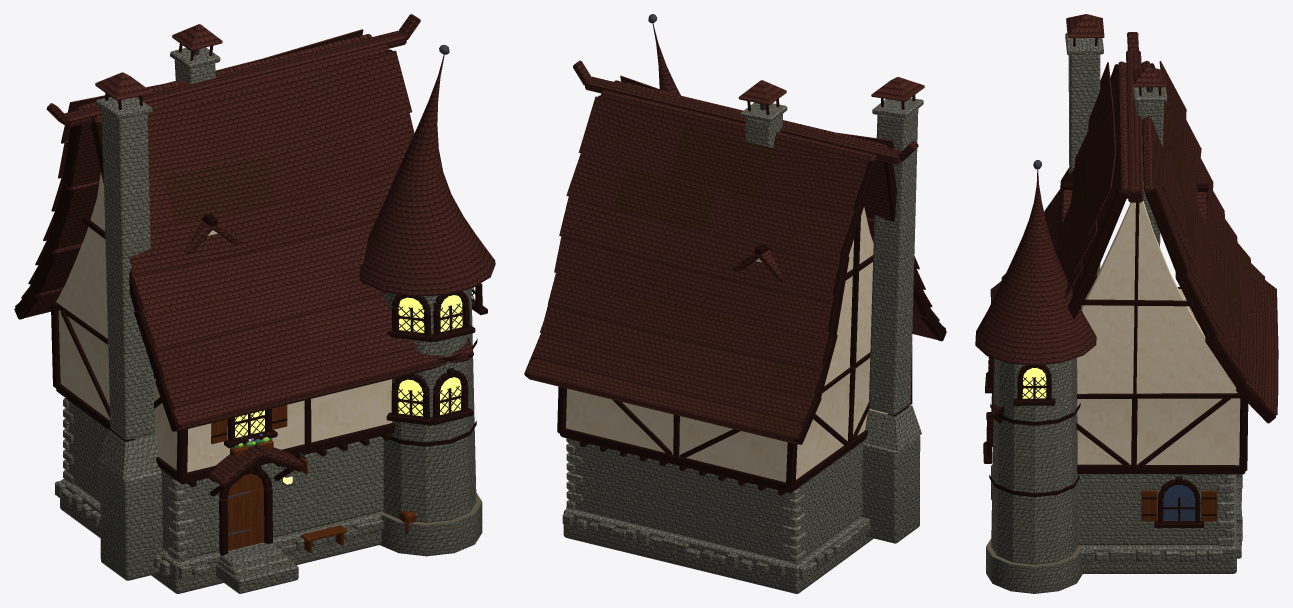
File: fantasy_house_wow.gltf
3 views of the same model, side by side, from view 1: azimuth 30°, elevation 25°; view 2: azimuth 150°, elevation 25°; view 3: azimuth 270°, elevation 25° (orthographic). The views are drawn at different scales.
Parts seen in each view (by area): view 1: fantasy_house_wow_roof_LOD0, fantasy_house_wow_base_LOD0, fantasy_house_wow_trim_LOD0, fantasy_house_wow_wall_LOD0, fantasy_house_wow_door_LOD0, fantasy_house_wow_glow_FFB65A_LOD0, fantasy_house_wow_metal_LOD0; view 2: fantasy_house_wow_roof_LOD0, fantasy_house_wow_base_LOD0, fantasy_house_wow_wall_LOD0, fantasy_house_wow_trim_LOD0; view 3: fantasy_house_wow_roof_LOD0, fantasy_house_wow_base_LOD0, fantasy_house_wow_wall_LOD0, fantasy_house_wow_trim_LOD0, fantasy_house_wow_door_LOD0, fantasy_house_wow_glass_LOD0, fantasy_house_wow_metal_LOD0, fantasy_house_wow_glow_FFB65A_LOD0.
Part boxes in pixels (<box>): fantasy_house_wow_roof_LOD0: <box>15,14,495,486</box>; fantasy_house_wow_base_LOD0: <box>55,47,482,593</box>; fantasy_house_wow_trim_LOD0: <box>14,43,487,555</box>; fantasy_house_wow_wall_LOD0: <box>56,172,392,472</box>; fantasy_house_wow_door_LOD0: <box>211,405,416,553</box>; fantasy_house_wow_glow_FFB65A_LOD0: <box>235,295,462,437</box>; fantasy_house_wow_metal_LOD0: <box>194,44,475,535</box>; fantasy_house_wow_roof_LOD0: <box>525,23,945,444</box>; fantasy_house_wow_base_LOD0: <box>562,98,923,593</box>; fantasy_house_wow_wall_LOD0: <box>566,207,887,482</box>; fantasy_house_wow_trim_LOD0: <box>524,95,946,495</box>; fantasy_house_wow_roof_LOD0: <box>975,14,1278,415</box>; fantasy_house_wow_base_LOD0: <box>986,33,1242,593</box>; fantasy_house_wow_wall_LOD0: <box>1077,201,1240,465</box>; fantasy_house_wow_trim_LOD0: <box>983,38,1275,527</box>; fantasy_house_wow_door_LOD0: <box>1141,490,1217,521</box>; fantasy_house_wow_glass_LOD0: <box>1163,485,1195,520</box>; fantasy_house_wow_metal_LOD0: <box>1022,87,1195,520</box>; fantasy_house_wow_glow_FFB65A_LOD0: <box>1022,367,1046,398</box>.
Size of what is drawn, in the model's own units: 13.29 by 16.86 by 10.47.
Materials: 10 (5 with a texture image).
